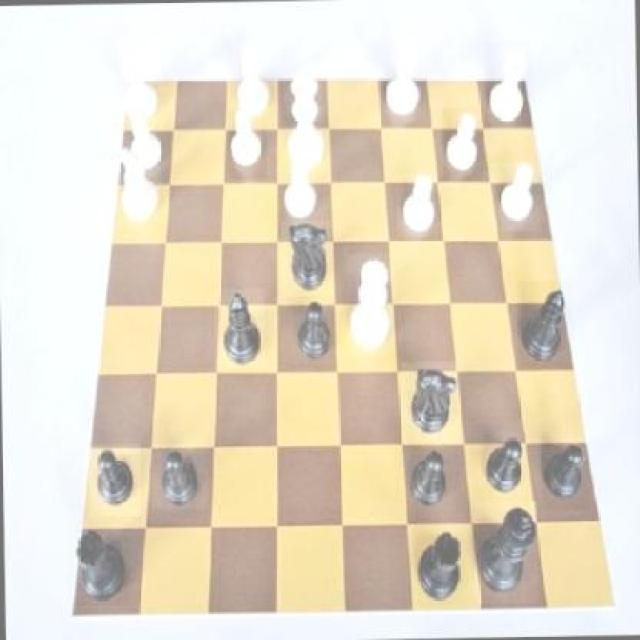bishop: (517, 278, 574, 372), (213, 288, 264, 368)
black-bishop: (474, 502, 538, 604)
black-king: (400, 362, 459, 446), (281, 220, 334, 300)
black-knight: (89, 443, 142, 516), (151, 443, 208, 509), (286, 296, 337, 368), (477, 432, 526, 505), (404, 444, 456, 512), (543, 443, 591, 511)
black-queen: (67, 526, 132, 606), (408, 532, 467, 606)
black-rook: (377, 34, 426, 120), (226, 34, 274, 121)
white-bishop: (284, 60, 328, 179)
white-king: (108, 138, 160, 231)
white-knight: (492, 160, 542, 231), (120, 108, 168, 178), (278, 150, 318, 228), (441, 108, 484, 180), (228, 109, 267, 180), (397, 172, 440, 236)
white-pawn: (346, 254, 396, 357)
white-queen: (483, 40, 532, 126), (119, 37, 163, 124)
